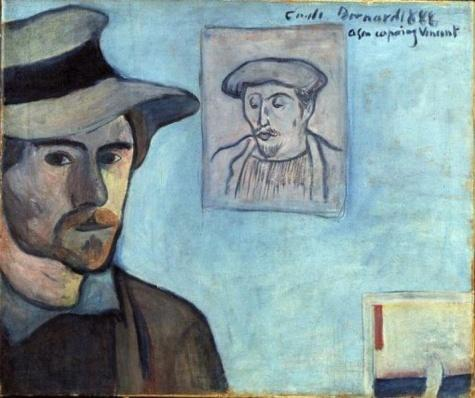person: (3, 79, 233, 396), (219, 58, 349, 213)
